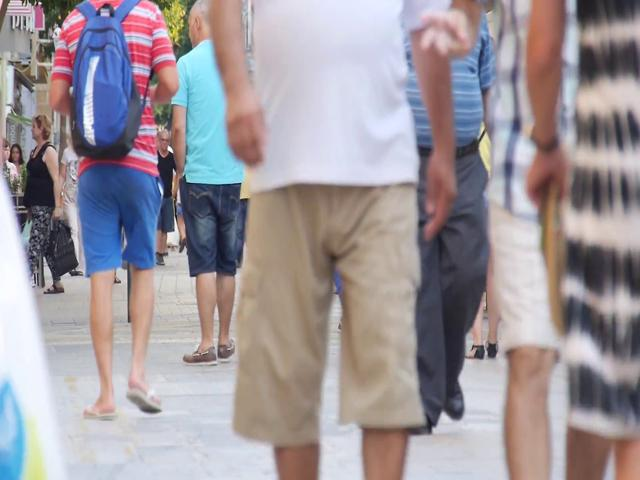shoe: (125, 379, 161, 413), (183, 345, 217, 365), (83, 401, 115, 421), (217, 338, 236, 362), (465, 343, 484, 359), (43, 282, 64, 294), (485, 338, 498, 357)
